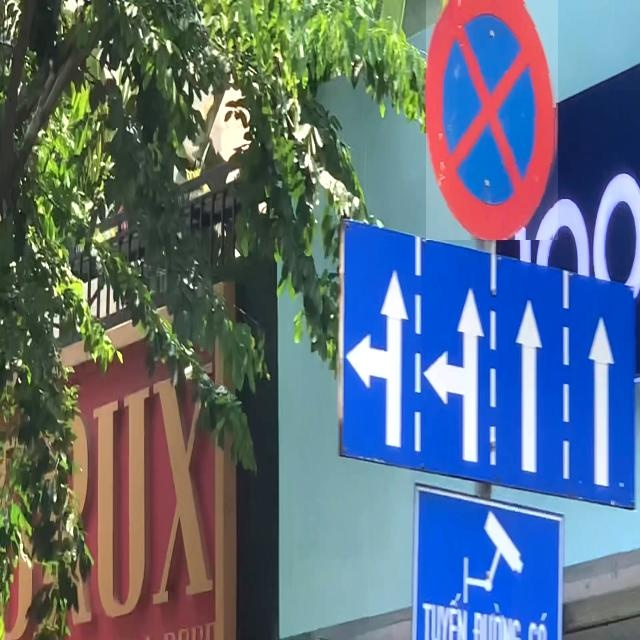bien_cam: (426, 0, 558, 240)
